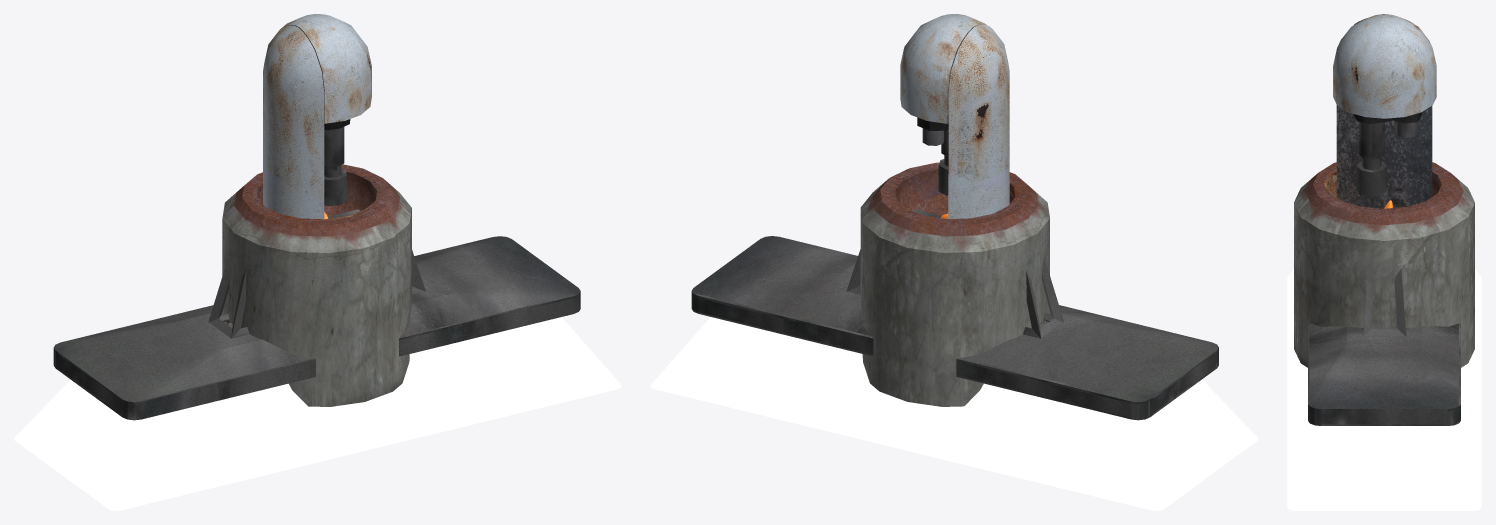
The model's file is models.glb.
3 renders of one model, left to right at view 1: azimuth 30°, elevation 25°; view 2: azimuth 150°, elevation 25°; view 3: azimuth 270°, elevation 25°, orthographic. The views are drawn at different scales.
Parts seen in each view (by area): view 1: ceiling-light-rays, ceiling-frame, turret-base, turret-tower, turret-gimble, turret-gun; view 2: ceiling-light-rays, turret-base, ceiling-frame, turret-tower, turret-gimble; view 3: turret-base, ceiling-light-rays, ceiling-frame, turret-gimble, turret-tower, turret-gun.
Part boxes in pixels (x1,y1,x2,y2): ceiling-light-rays: [14, 317, 621, 510]; ceiling-frame: [53, 209, 580, 420]; turret-base: [222, 164, 411, 406]; turret-tower: [263, 25, 324, 219]; turret-gimble: [284, 14, 371, 130]; turret-gun: [324, 127, 346, 205]; ceiling-light-rays: [650, 317, 1258, 510]; turret-base: [860, 162, 1049, 406]; ceiling-frame: [691, 209, 1218, 420]; turret-tower: [948, 25, 1009, 218]; turret-gimble: [900, 14, 986, 145]; turret-base: [1294, 162, 1474, 367]; ceiling-light-rays: [1287, 269, 1481, 510]; ceiling-frame: [1308, 269, 1460, 425]; turret-gimble: [1333, 14, 1436, 137]; turret-tower: [1336, 14, 1432, 208]; turret-gun: [1356, 122, 1386, 196].
Size of what is drawn, in the model's own units: 18.04 by 13.23 by 6.24.
7 materials, 6 textured.
